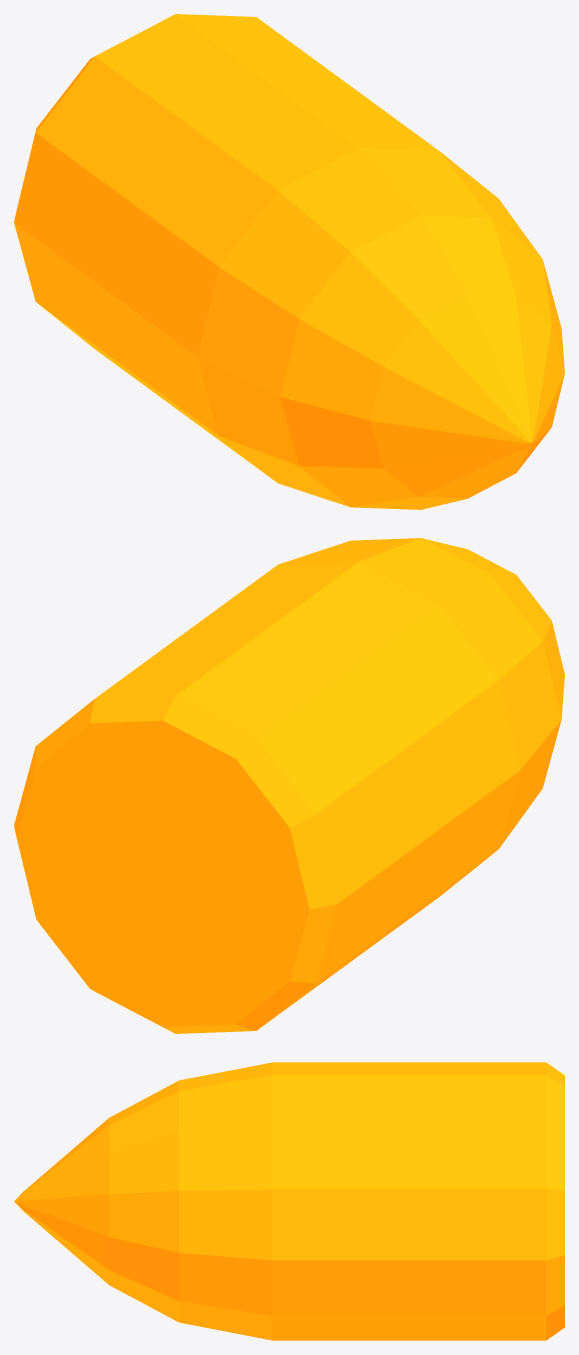
File: bulletGlow.fbx
3 views of the same model, one above another, from view 1: azimuth 30°, elevation 25°; view 2: azimuth 150°, elevation 25°; view 3: azimuth 270°, elevation 25° (orthographic). The views are drawn at different scales.
Parts seen in each view (by area): view 1: Cylinder; view 2: Cylinder; view 3: Cylinder.
Part boxes in pixels (x1=…): Cylinder: x1=14, y1=14, x2=564, y2=509; Cylinder: x1=14, y1=538, x2=564, y2=1033; Cylinder: x1=14, y1=1062, x2=564, y2=1340.
Size of the model in its own units: 49.62 by 49.62 by 97.94.
